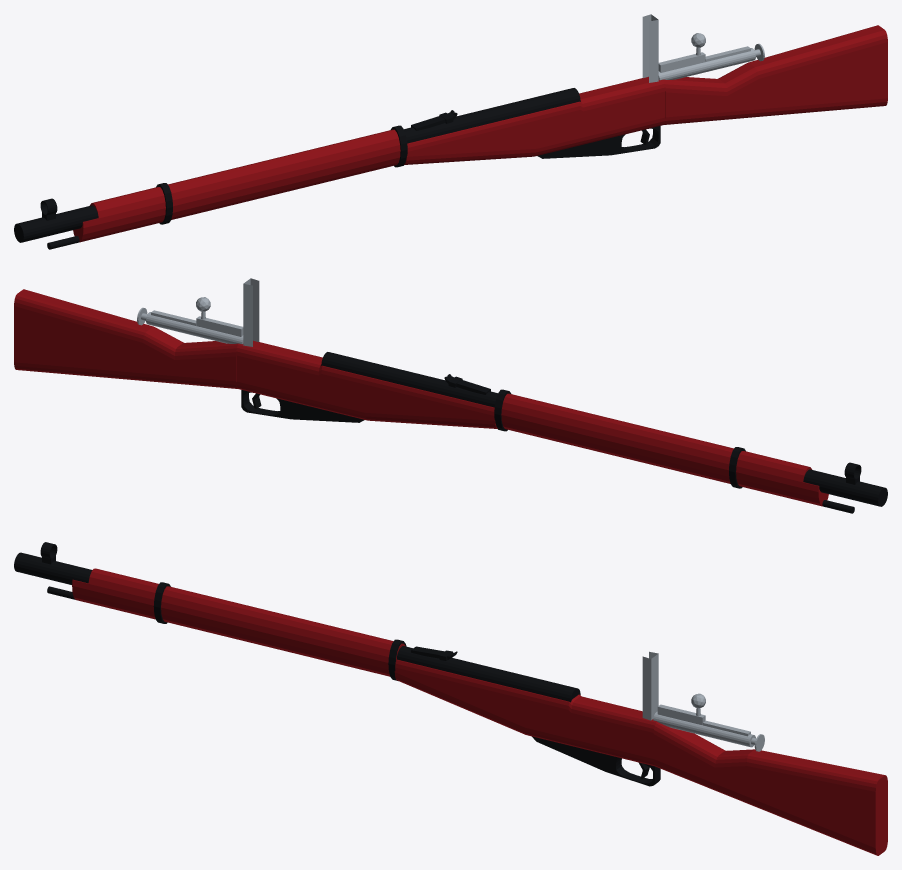
Rendered from mosin-nagant0045.obj.
3 views of the same model, one above another, from view 1: azimuth 30°, elevation 25°; view 2: azimuth 150°, elevation 25°; view 3: azimuth 330°, elevation 25° (orthographic).
Visible parts, largest first — view 1: stock, barrel, triggerGuard, clip, bolt, boltLocker; view 2: stock, barrel, triggerGuard, clip, bolt, boltLocker; view 3: stock, barrel, triggerGuard, clip, bolt.
Part boxes in pixels (box(x1,y1,x2,y2)): stock: box(73, 25, 887, 242); barrel: box(14, 88, 580, 242); triggerGuard: box(537, 126, 660, 158); clip: box(642, 14, 658, 82); bolt: box(658, 48, 755, 80); boltLocker: box(658, 52, 705, 72); stock: box(14, 289, 828, 506); barrel: box(321, 352, 887, 506); triggerGuard: box(241, 390, 364, 422); clip: box(243, 278, 259, 346); bolt: box(146, 312, 243, 344); boltLocker: box(196, 316, 243, 336); stock: box(72, 568, 887, 855); barrel: box(14, 552, 580, 702); triggerGuard: box(532, 736, 660, 786); clip: box(642, 651, 658, 720); bolt: box(653, 711, 755, 747).
Bounding box in the file's own units: 16.32 × 2.57 × 0.4228.
